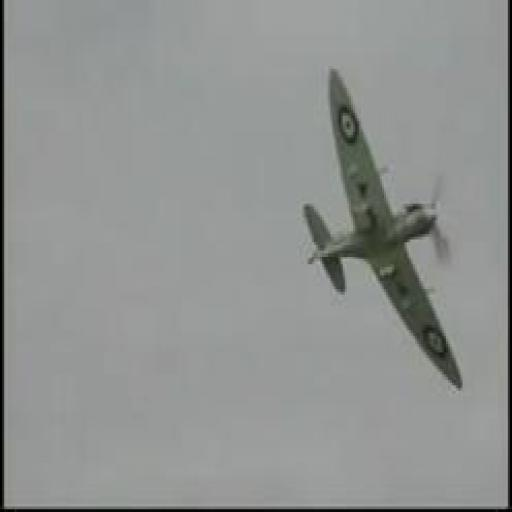aircraft: (304, 66, 464, 391)
